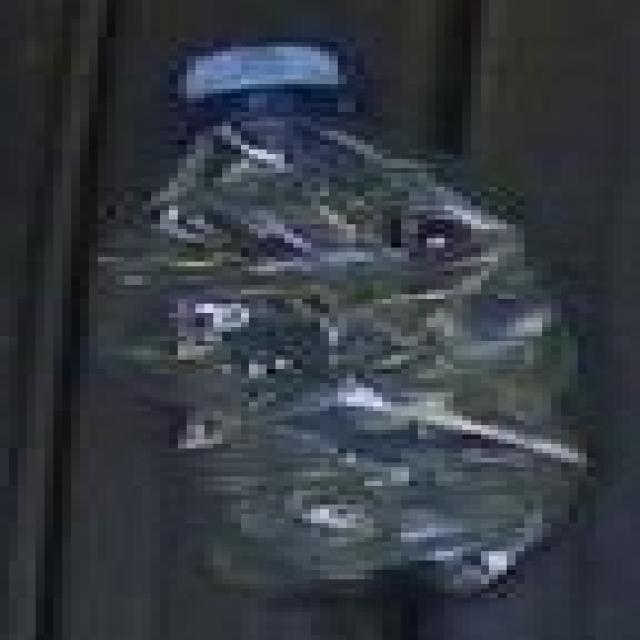litter: (79, 25, 592, 600)
